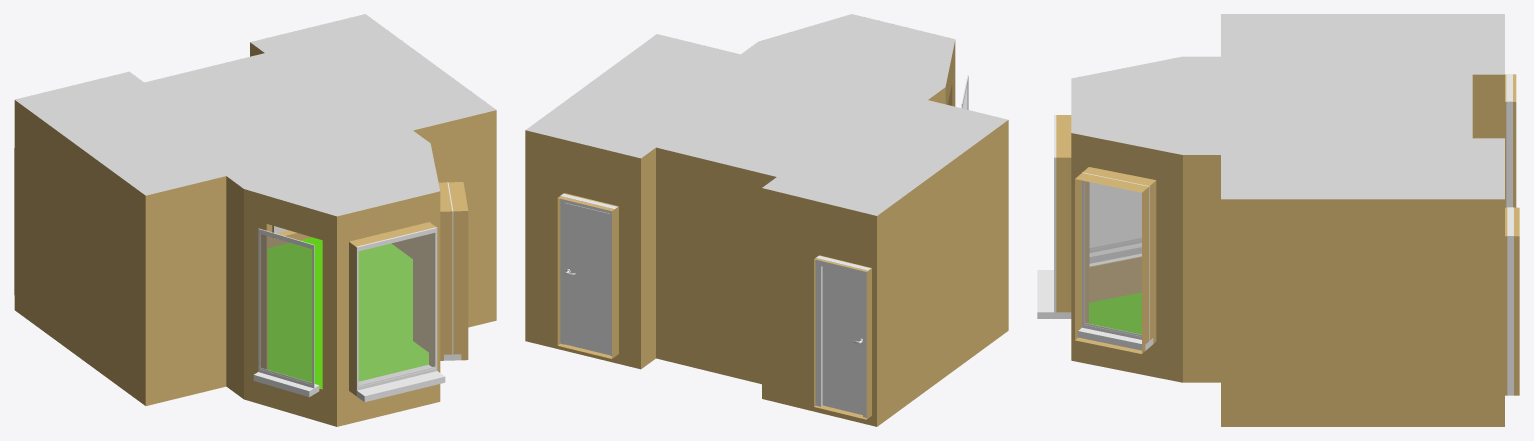
The model's file is Lounge.glb.
3 renders of one model, left to right at view 1: azimuth 30°, elevation 25°; view 2: azimuth 150°, elevation 25°; view 3: azimuth 270°, elevation 25°, orthographic. The views are drawn at different scales.
Visible parts, largest first — view 1: Room_Lounge, Bay_Window_South, Bay_Window_West, Bay_Window_East; view 2: Room_Lounge, Lounge_Door_East, Lounge_Door_West, Lounge_Door_West_Frame, Lounge_Door_East_Frame; view 3: Room_Lounge, Bay_Window_East, Bay_Window_West, Bay_Window_South, Lounge_Door_East_Frame, Lounge_Door_West_Frame.
Part boxes in pixels (x1,y1,x2,y2): Room_Lounge: [14, 14, 496, 426]; Bay_Window_South: [356, 227, 445, 402]; Bay_Window_West: [253, 228, 319, 397]; Bay_Window_East: [444, 182, 461, 360]; Room_Lounge: [525, 14, 1008, 426]; Lounge_Door_East: [564, 203, 610, 355]; Lounge_Door_West: [822, 266, 862, 414]; Lounge_Door_West_Frame: [815, 255, 870, 417]; Lounge_Door_East_Frame: [560, 193, 617, 356]; Room_Lounge: [1056, 14, 1519, 426]; Bay_Window_East: [1078, 172, 1153, 350]; Bay_Window_West: [1089, 182, 1141, 263]; Bay_Window_South: [1037, 115, 1071, 318]; Lounge_Door_East_Frame: [1507, 207, 1513, 395]; Lounge_Door_West_Frame: [1506, 74, 1512, 207].
Size of the model in its own units: 5.23 by 3 by 5.76.
